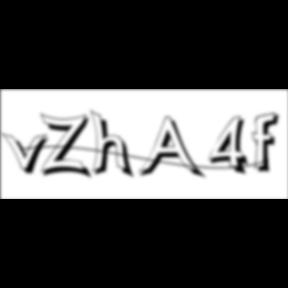4: (208, 115, 256, 179)
A: (138, 116, 207, 182)
Z: (40, 112, 96, 181)
f: (252, 111, 286, 175)
h: (90, 108, 138, 182)
v: (1, 131, 55, 177)
